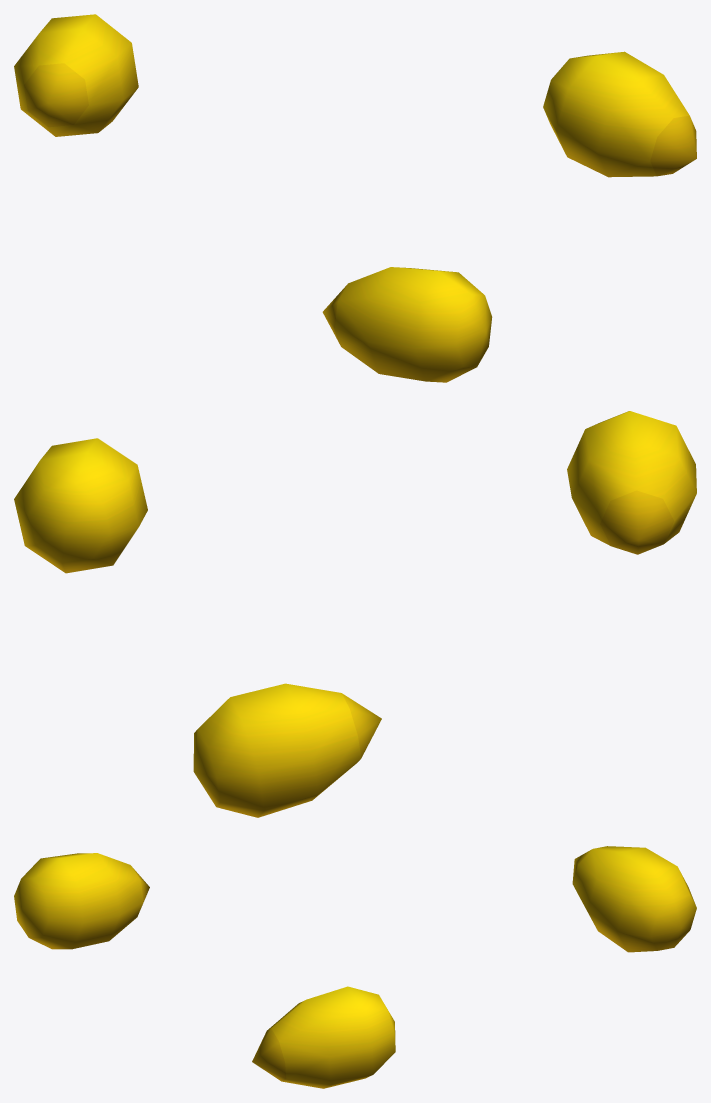
The model's file is corn_seed.glb.
3 renders of one model, top to bottom at view 1: azimuth 30°, elevation 25°; view 2: azimuth 150°, elevation 25°; view 3: azimuth 270°, elevation 25°, orthographic. The views are drawn at different scales.
Parts seen in each view (by area): view 1: SM_Corn_Seed2; view 2: SM_Corn_Seed2; view 3: SM_Corn_Seed2.
Boxes of the visible parts, x1=… form: SM_Corn_Seed2: x1=14, y1=14, x2=696, y2=382; SM_Corn_Seed2: x1=14, y1=411, x2=696, y2=817; SM_Corn_Seed2: x1=14, y1=846, x2=696, y2=1088.
Size of the model in its own units: 0.2017 by 0.0485 by 0.3005.
1 material, 1 textured.
